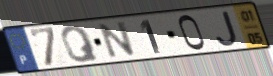0: (177, 13, 207, 52)
1: (139, 18, 162, 55)
7: (28, 25, 58, 68)
J: (215, 10, 240, 48)
N: (97, 20, 138, 61)
Q: (59, 24, 102, 64)
